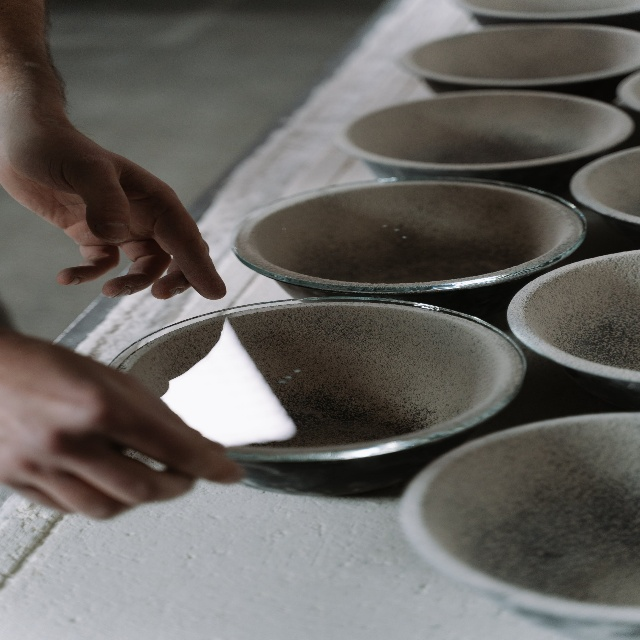Sin_guantes: (0, 320, 247, 522), (1, 115, 228, 302)
